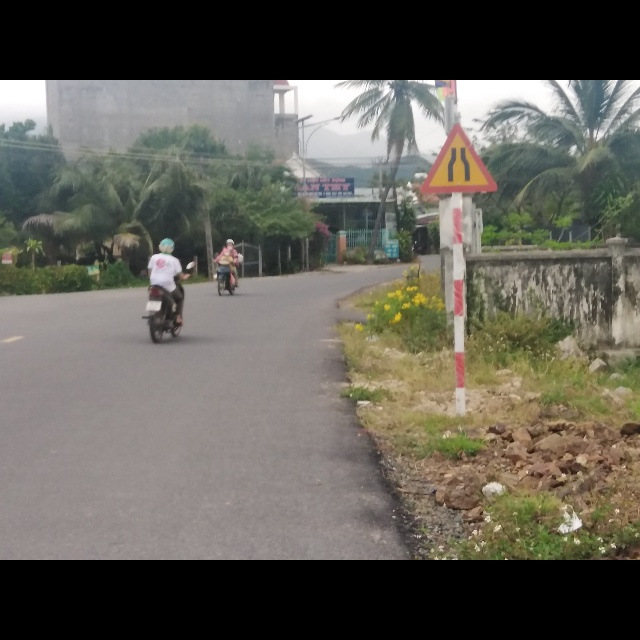Đường bị hẹp cả hai bên: (419, 123, 497, 196)
